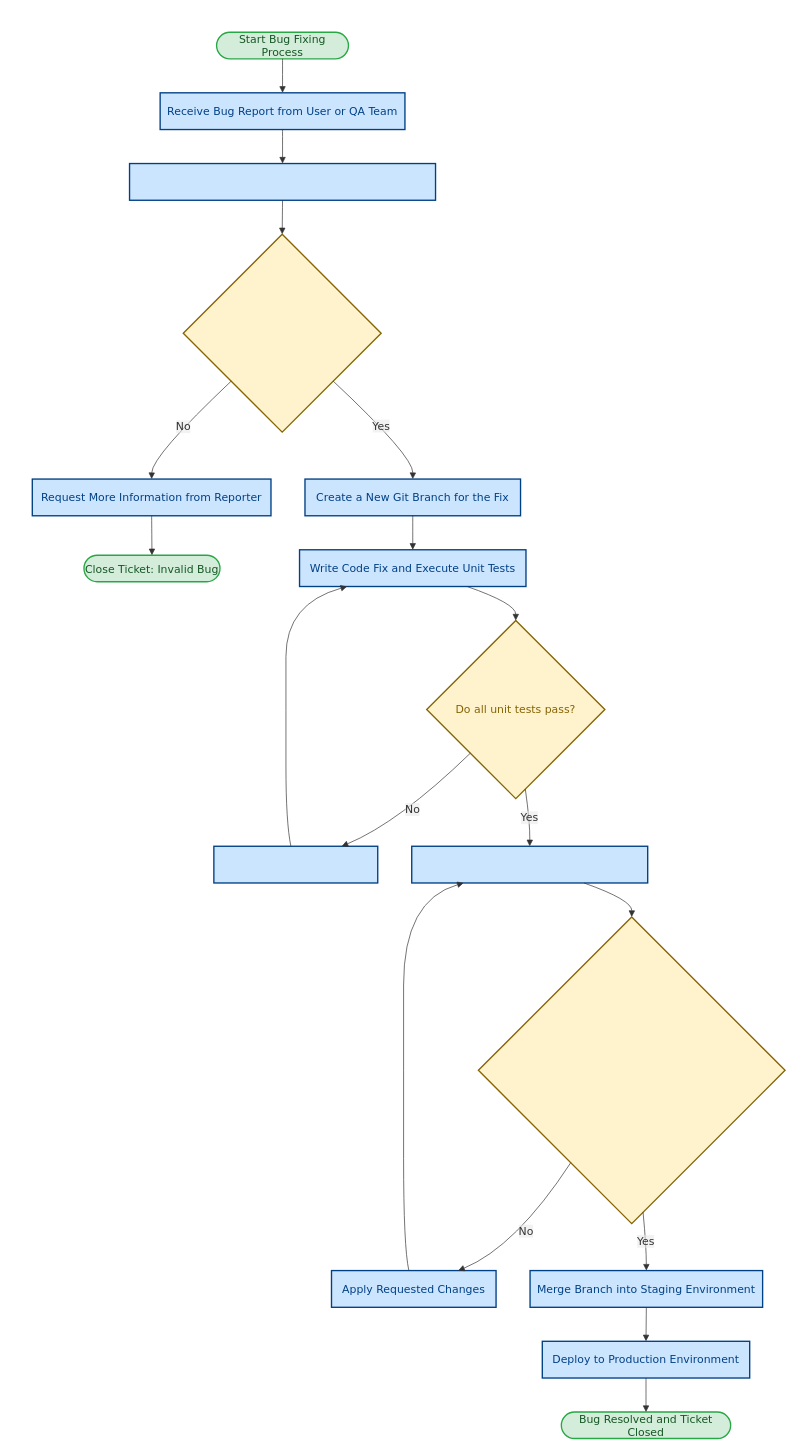
This 797x1450 diagram has some shape labels left out. Each missing label, with the box of its shape:
Debug and Refactor Code: (213, 845, 378, 883)
Is the bug reproducible?: (182, 233, 381, 432)
Is the PR approved by Code Reviewer?: (477, 916, 785, 1224)
Push Changes and Create a Pull Request: (411, 845, 648, 883)
Reproduce and Analyze the Issue in Local Environment: (129, 163, 436, 201)
